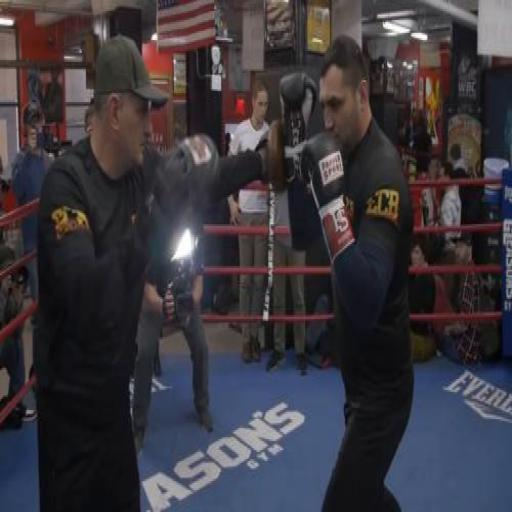boxing: (34, 44, 286, 482), (274, 30, 463, 512)
